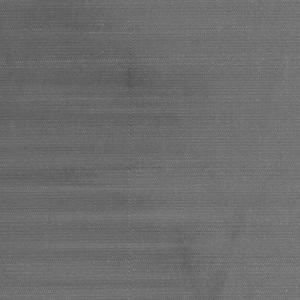Wrinkle: (1, 183, 234, 300)
